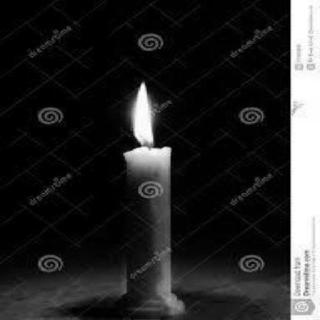Fire: (122, 77, 164, 154)
